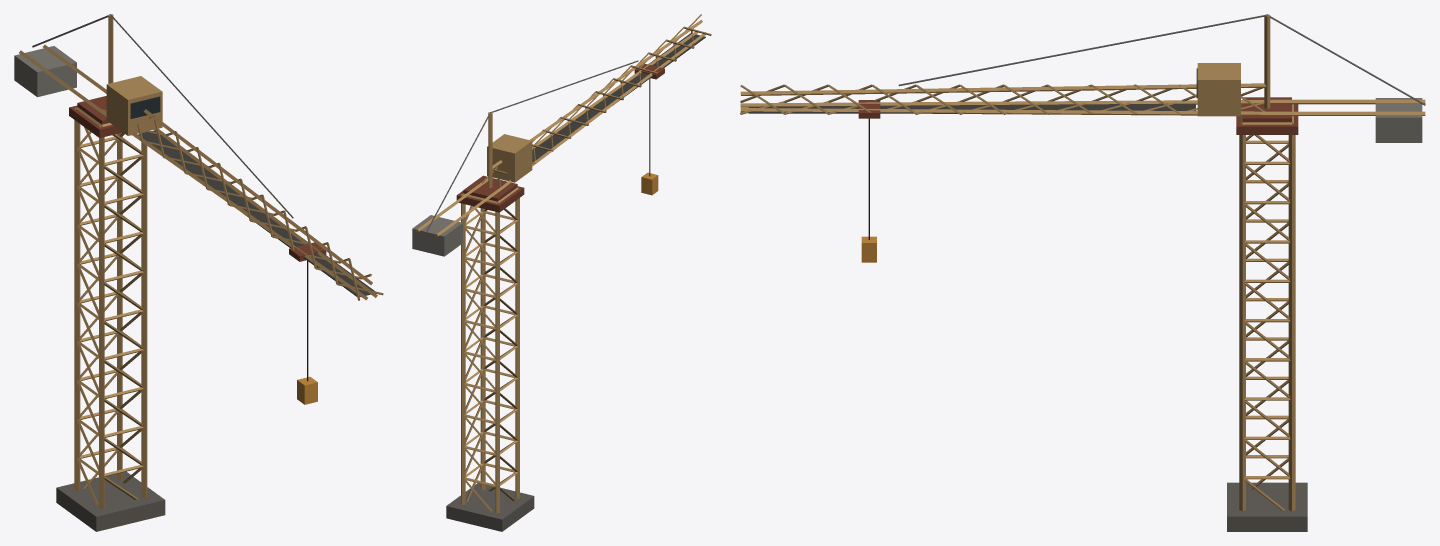
Rendered from dam_crest_crane.glb.
The picture shows the model from 3 angles, left to right: view 1: azimuth 30°, elevation 25°; view 2: azimuth 150°, elevation 25°; view 3: azimuth 270°, elevation 25°; orthographic projection. The views are drawn at different scales.
Visible parts, largest first — view 1: dam_crest_crane, dam_crest_crane_jib; view 2: dam_crest_crane, dam_crest_crane_jib; view 3: dam_crest_crane_jib, dam_crest_crane.
Part boxes in pixels (x1=…): dam_crest_crane: x1=56, y1=105, x2=165, y2=531; dam_crest_crane_jib: x1=14, y1=14, x2=383, y2=404; dam_crest_crane: x1=446, y1=186, x2=534, y2=531; dam_crest_crane_jib: x1=412, y1=14, x2=711, y2=256; dam_crest_crane_jib: x1=740, y1=14, x2=1425, y2=262; dam_crest_crane: x1=1227, y1=104, x2=1307, y2=531.
Size of the model in its own units: 5.2 by 35.66 by 44.27.
